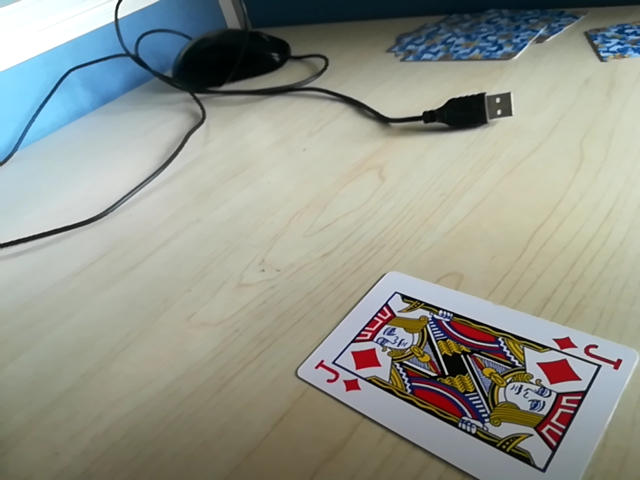fk j: (308, 366, 367, 399), (558, 335, 618, 362)
